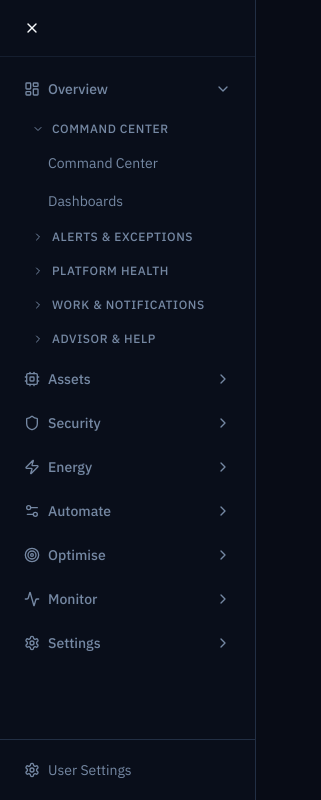
it: Navigation Highlighting Integration Tests › should expand and collapse feature sets correctly
The image size is (321, 800).
// Expand security area first
What coordinates should you click on to do the following:
click the button "Security"
I would click on:
 (128, 423)
Its box is [12,403,243,443].
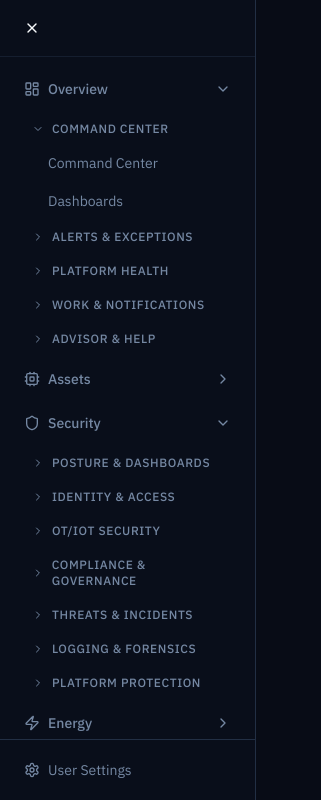
Expected: the button "security overview dashboard" is not shown
// Click to expand feature set
What coordinates should you click on to do the following:
click the button "Posture & Dashboards"
I would click on:
 (132, 463)
Its box is [20,447,243,479].
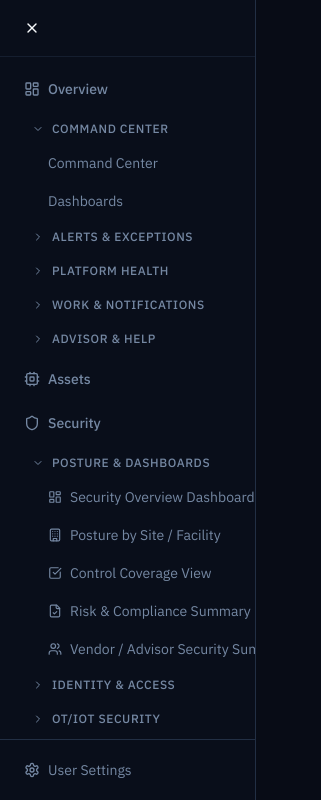
Expected: the button "Security Overview Dashboard" is shown, [36,479,255,515]
Expected: the button "Posture by Site / Facility" is shown, [36,517,255,553]
// Click to collapse feature set
What coordinates should you click on to do the following:
click the button "Posture & Dashboards"
I would click on:
 (162, 463)
Its box is [20,447,304,479].
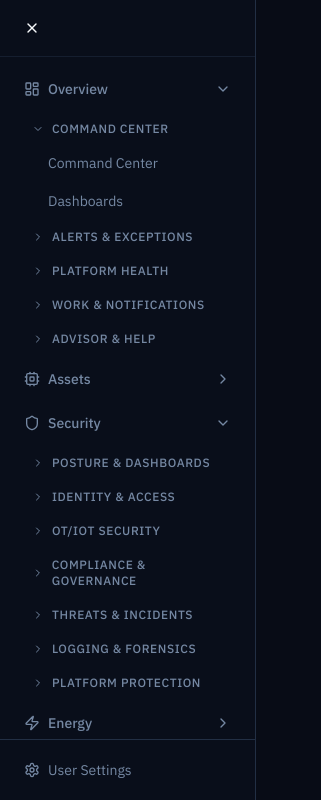
Expected: the button "Security Overview Dashboard" is gone
